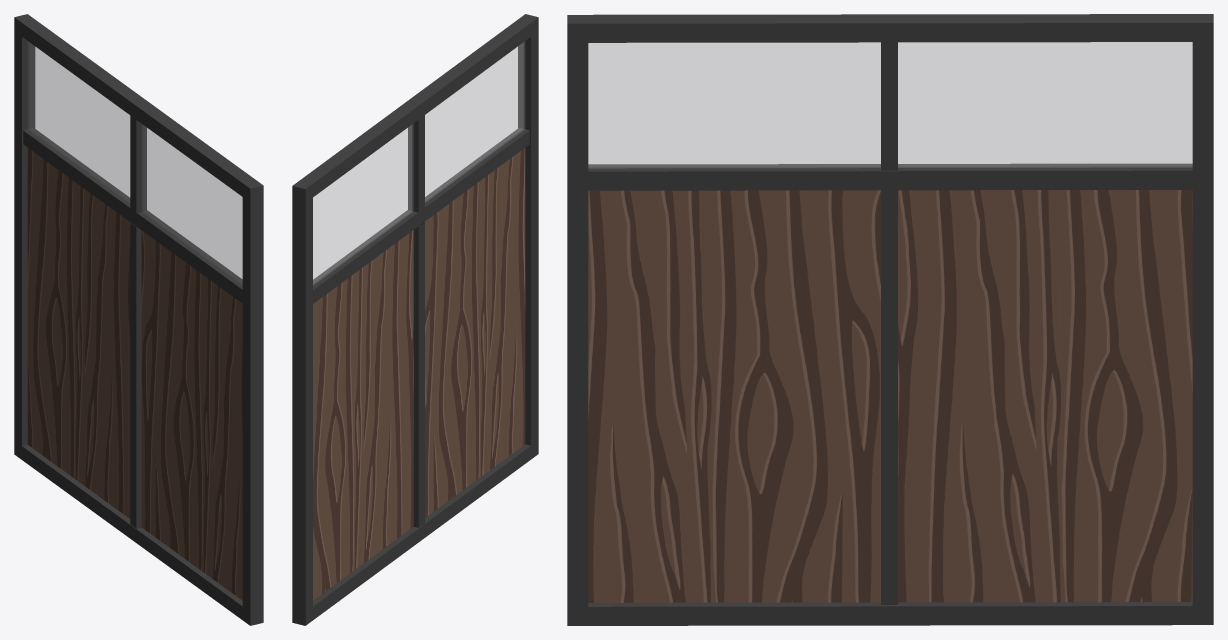
File: Seperator16.fbx
The picture shows the model from 3 angles, left to right: view 1: azimuth 30°, elevation 25°; view 2: azimuth 150°, elevation 25°; view 3: azimuth 270°, elevation 25°; orthographic projection. The views are drawn at different scales.
Visible parts, largest first — view 1: Seperator16; view 2: Seperator16; view 3: Seperator16.
Boxes of the visible parts, x1,y1,x2,y2 form: Seperator16: (14,14,263,625); Seperator16: (292,14,538,625); Seperator16: (567,14,1213,625).
Bounding box in the file's own units: 0.055 × 1.53 × 1.58.
